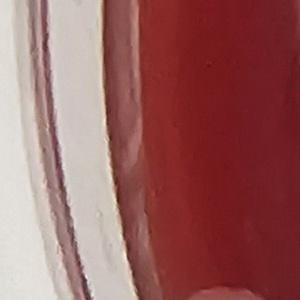colony: (178, 284, 276, 300)
